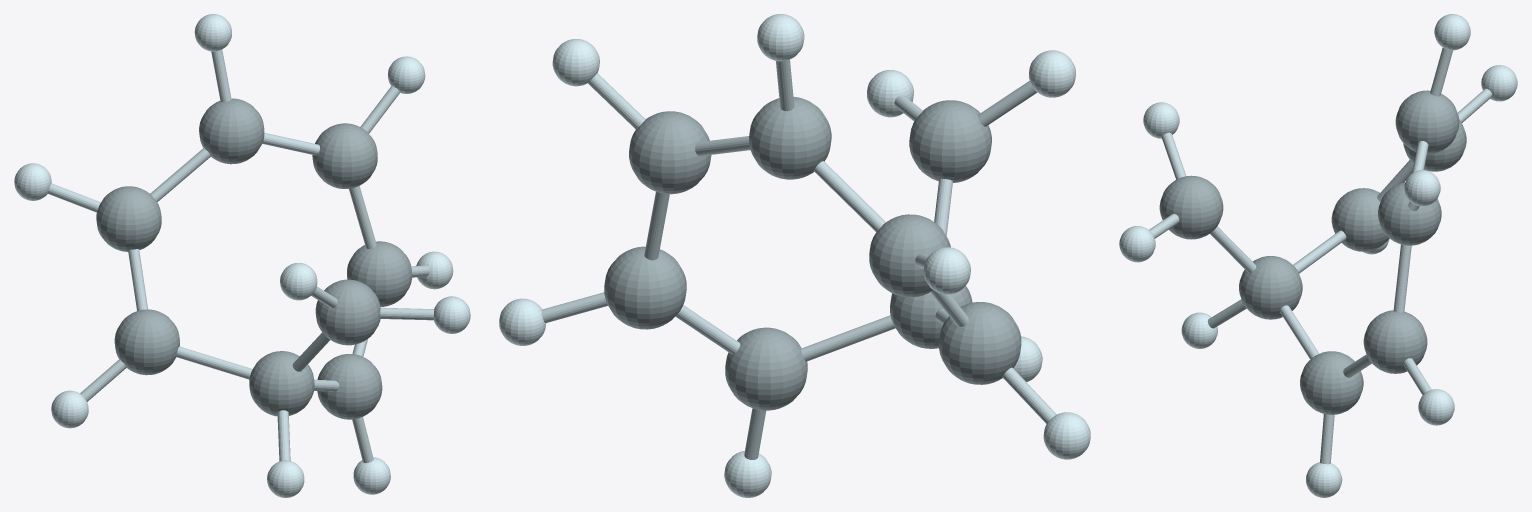
Rendered from irc_step_254.glb.
The picture shows the model from 3 angles, left to right: view 1: azimuth 30°, elevation 25°; view 2: azimuth 150°, elevation 25°; view 3: azimuth 270°, elevation 25°; orthographic projection. The views are drawn at different scales.
Visible parts, largest first — view 1: Renderer Node; view 2: Renderer Node; view 3: Renderer Node.
Part boxes in pixels (box(x1,y1,x2,y2)): Renderer Node: box(14, 14, 470, 497); Renderer Node: box(499, 14, 1090, 497); Renderer Node: box(1119, 14, 1517, 497).
Size of the model in its own units: 5.28 by 5.29 by 4.37.
